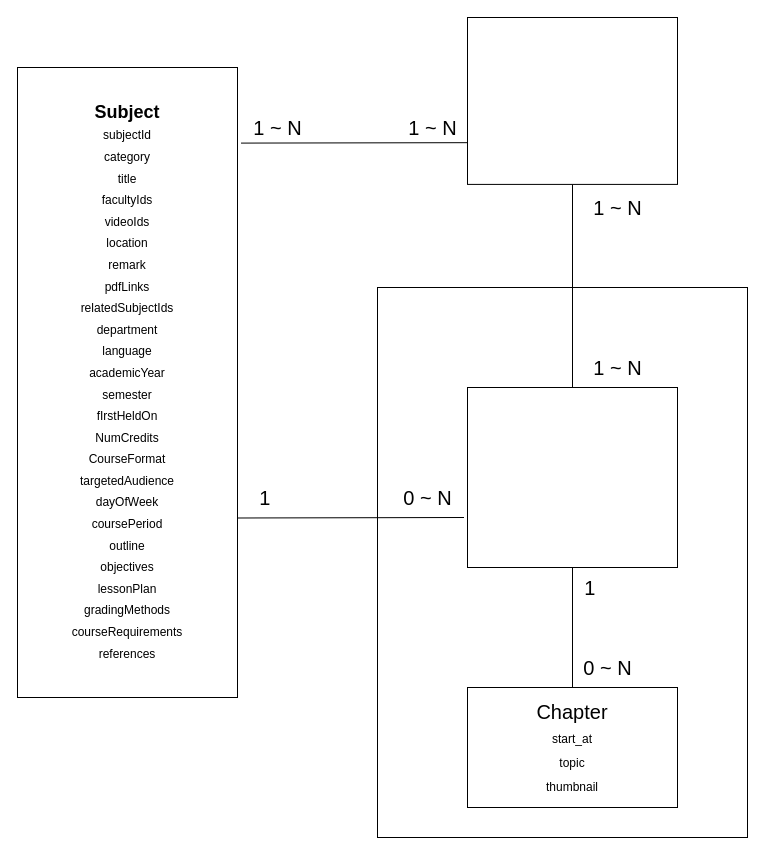
Image size: 765x855. Some labels were removed from this diagram. Each missing label, with the box of its shape:
Faculty FacultyID Name Department rank: (466, 16, 678, 184)
Video videoIds title link chapters facultyIds lecturedOn videoLength Language: (466, 386, 678, 568)
